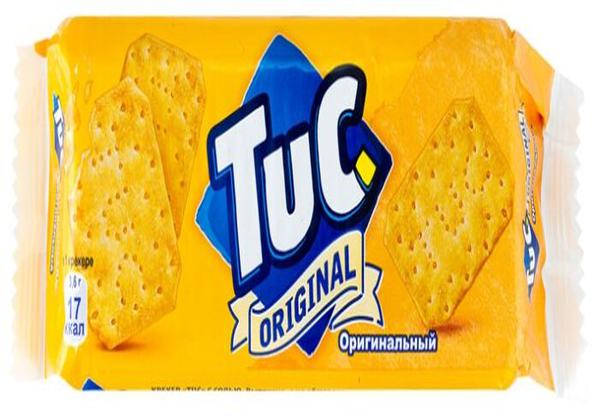crackers tuc: (43, 23, 549, 394)
